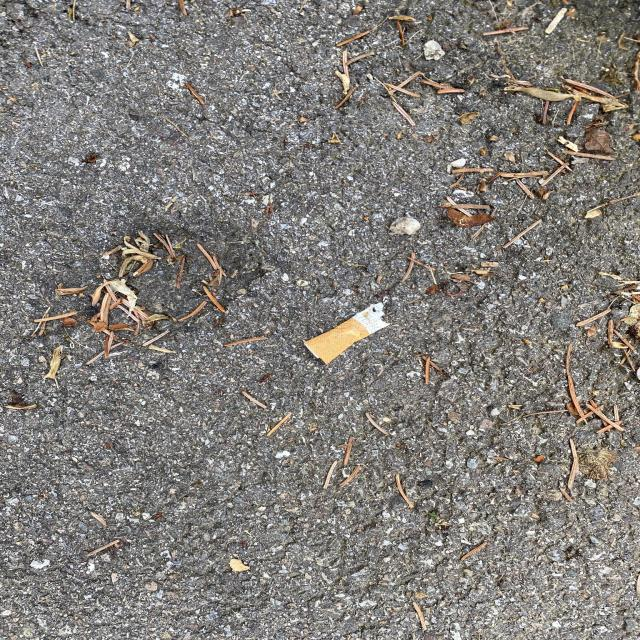other waste: (303, 302, 391, 365)
